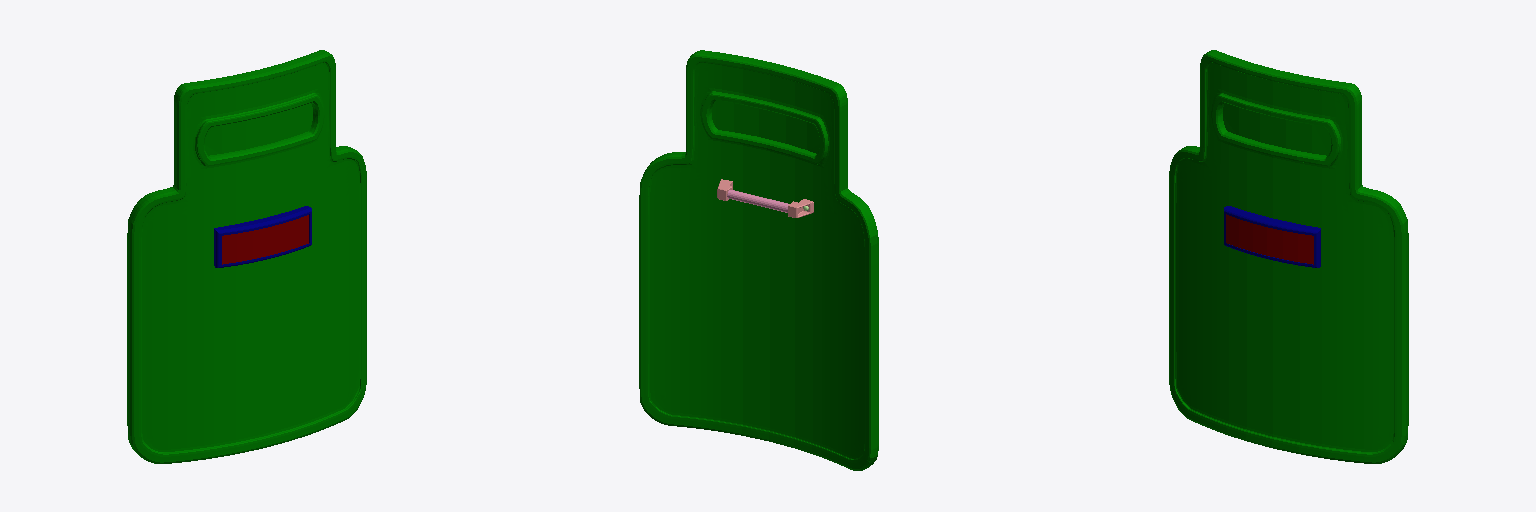
File: BallisticShield.obj
3 views of the same model, side by side, from view 1: azimuth 30°, elevation 25°; view 2: azimuth 150°, elevation 25°; view 3: azimuth 330°, elevation 25° (orthographic).
Visible parts, largest first — view 1: Plane001, Object001, Plane006, Box001; view 2: Plane001, Object001, Box002, Cylinder001; view 3: Plane001, Object001, Plane006, Box001.
Boxes of the visible parts, x1=… form: Plane001: x1=127, y1=50, x2=366, y2=463; Object001: x1=204, y1=103, x2=312, y2=155; Plane006: x1=222, y1=215, x2=308, y2=264; Box001: x1=214, y1=206, x2=311, y2=267; Plane001: x1=639, y1=50, x2=878, y2=470; Object001: x1=712, y1=100, x2=819, y2=153; Box002: x1=717, y1=179, x2=813, y2=217; Cylinder001: x1=727, y1=190, x2=788, y2=212; Plane001: x1=1169, y1=50, x2=1408, y2=463; Object001: x1=1223, y1=103, x2=1331, y2=155; Plane006: x1=1226, y1=214, x2=1313, y2=264; Box001: x1=1224, y1=206, x2=1320, y2=267.
Bounding box in the file's own units: 168 × 255 × 32.11.